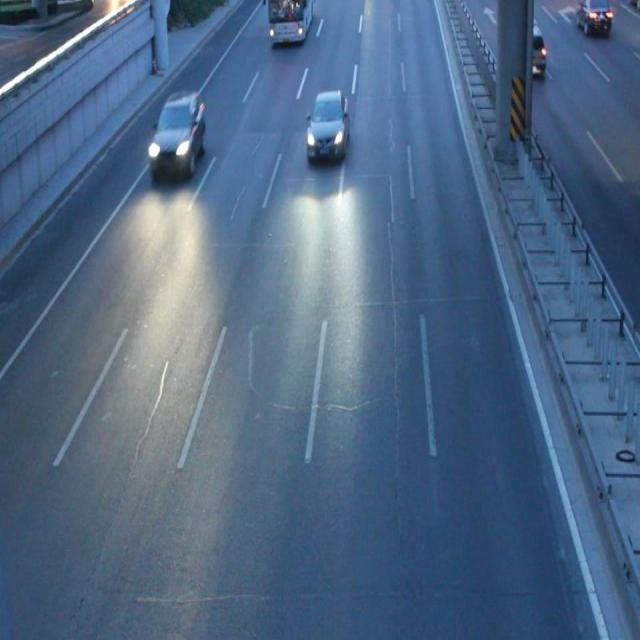car: (148, 95, 202, 176), (306, 92, 348, 159), (510, 21, 545, 80), (576, 1, 610, 37)
van: (265, 1, 313, 44)
